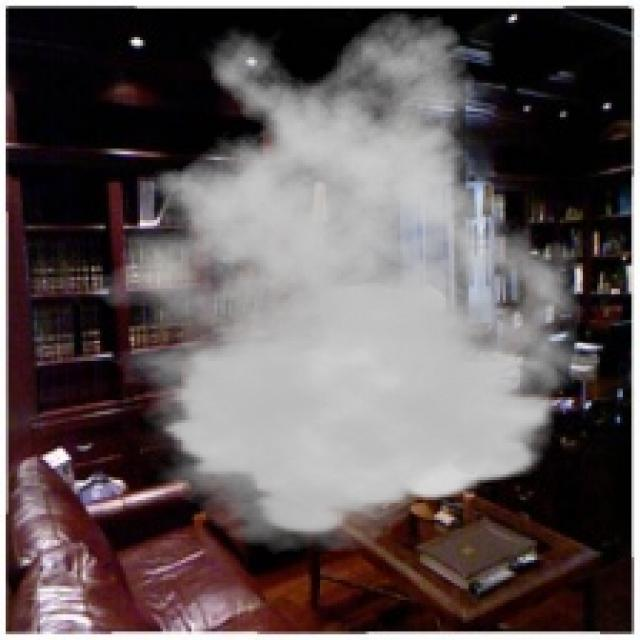smoke: (60, 9, 609, 554)
